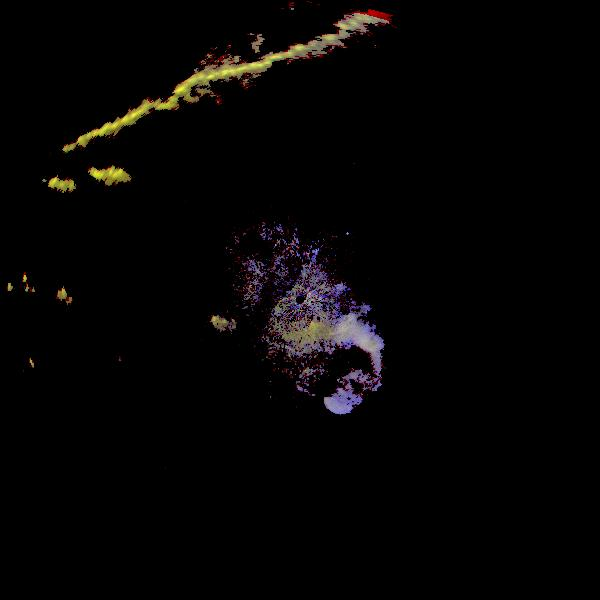roost: (214, 272, 415, 473)
